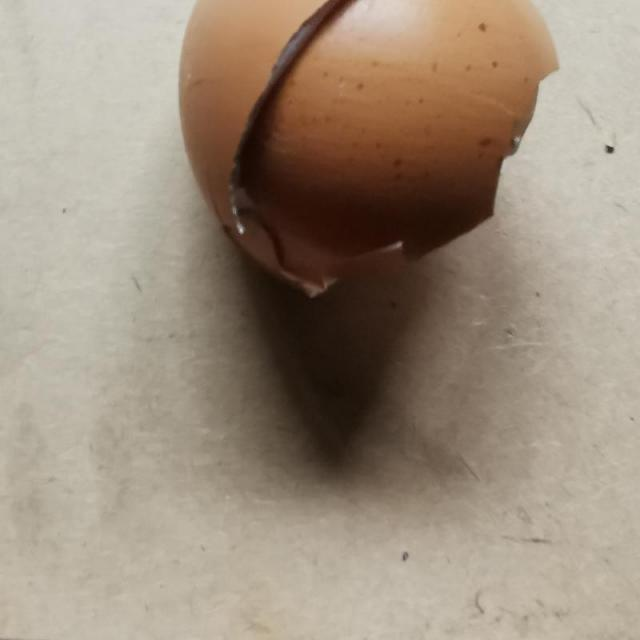egg shell: (170, 0, 564, 309)
